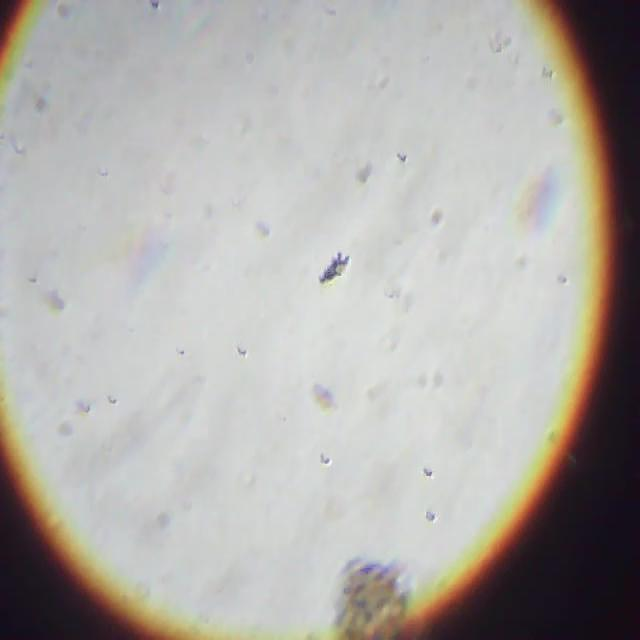alexandrium: (338, 559, 407, 636)
